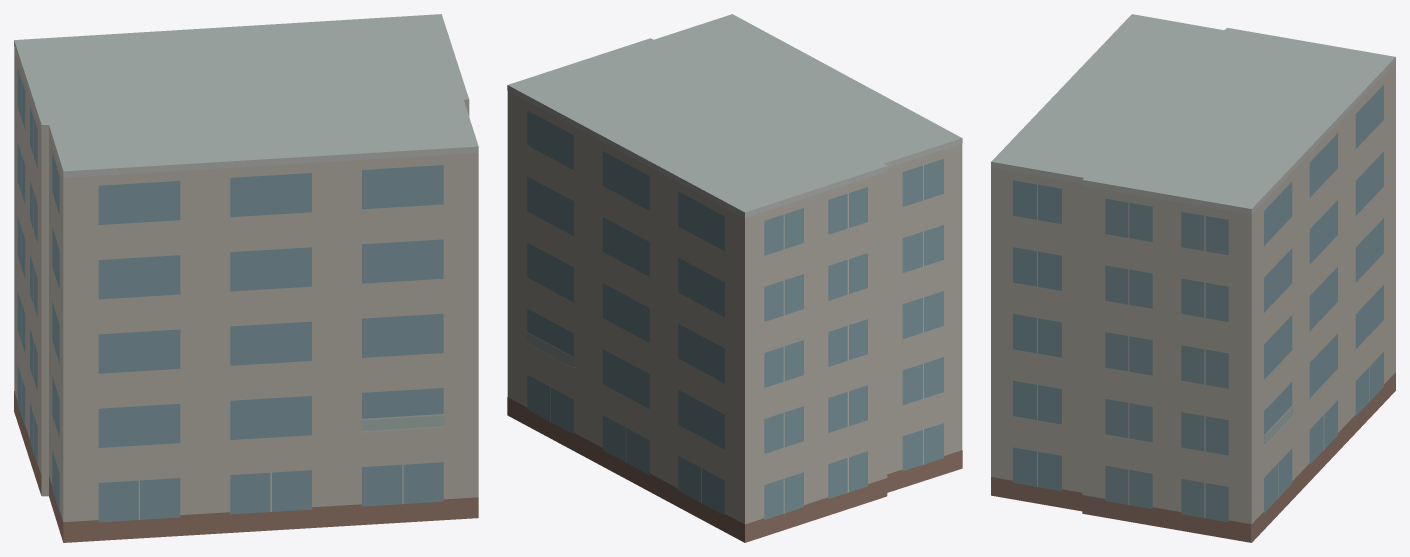
The model's file is survey-upis-32720461.glb.
The picture shows the model from 3 angles, left to right: view 1: azimuth 30°, elevation 25°; view 2: azimuth 150°, elevation 25°; view 3: azimuth 270°, elevation 25°; orthographic projection. The views are drawn at different scales.
Visible parts, largest first — view 1: survey-upis-32720461.tmp; view 2: survey-upis-32720461.tmp; view 3: survey-upis-32720461.tmp.
Part boxes in pixels (x1,y1,x2,y2): survey-upis-32720461.tmp: (14, 14, 478, 542); survey-upis-32720461.tmp: (507, 14, 962, 542); survey-upis-32720461.tmp: (991, 14, 1395, 542).
Size of the model in its own units: 17.81 by 14.2 by 15.61.
